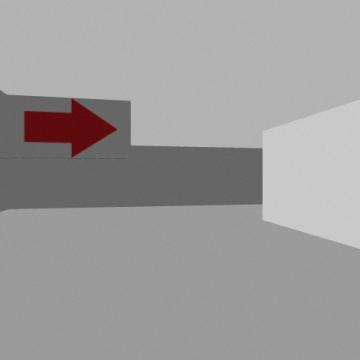red_right: (24, 99, 116, 157)
